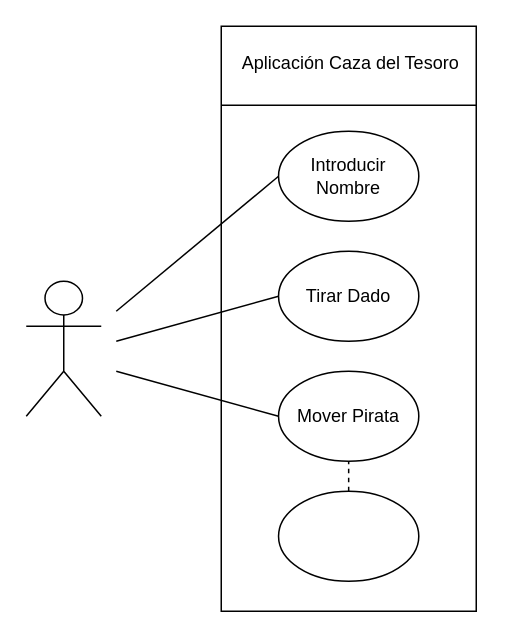
This 509x638 diagram has some shape labels left out. The shapes that lost their labels are listed below. From the top down, each one's centre as x and y in pixels, then its label:
At (63,348): "Usuario".
At (348,535): "Logro de Récord".
